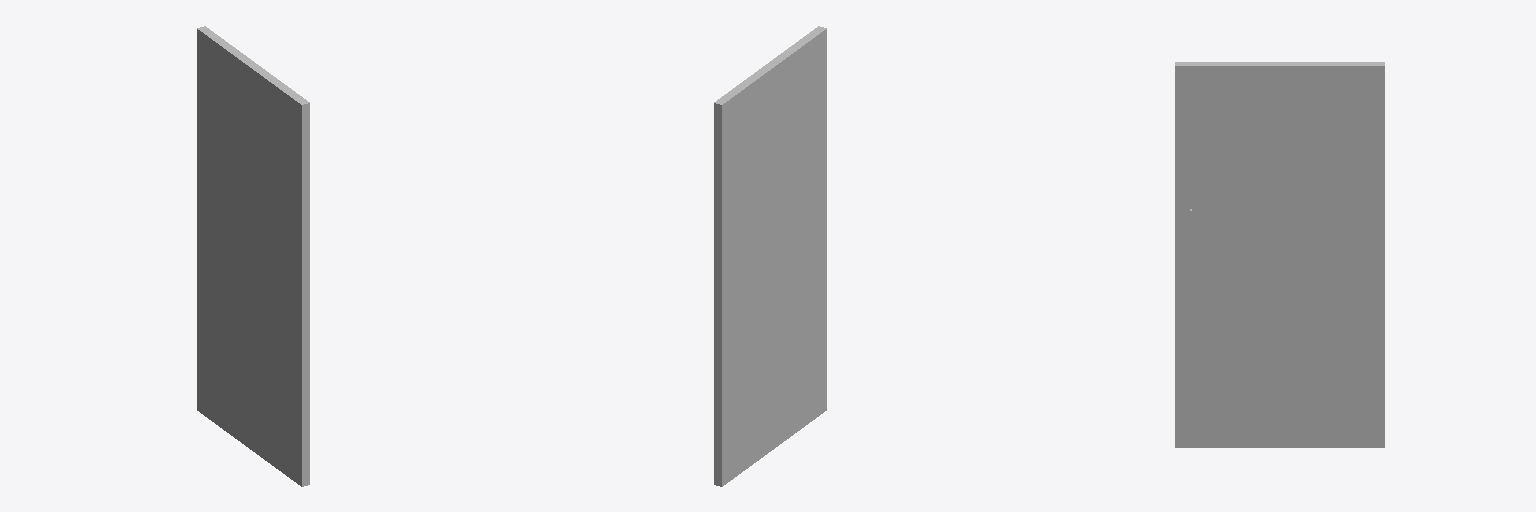
The model's file is fridge_door.obj.
3 views of the same model, side by side, from view 1: azimuth 30°, elevation 25°; view 2: azimuth 150°, elevation 25°; view 3: azimuth 270°, elevation 25° (orthographic).
Parts seen in each view (by area): view 1: Fridge_Door_Cube.003; view 2: Fridge_Door_Cube.003; view 3: Fridge_Door_Cube.003.
Boxes of the visible parts, x1,y1,x2,y2 form: Fridge_Door_Cube.003: [197, 26, 309, 486]; Fridge_Door_Cube.003: [714, 26, 826, 486]; Fridge_Door_Cube.003: [1175, 62, 1384, 447].
Bounding box in the file's own units: 0.1476 × 3.98 × 1.98.